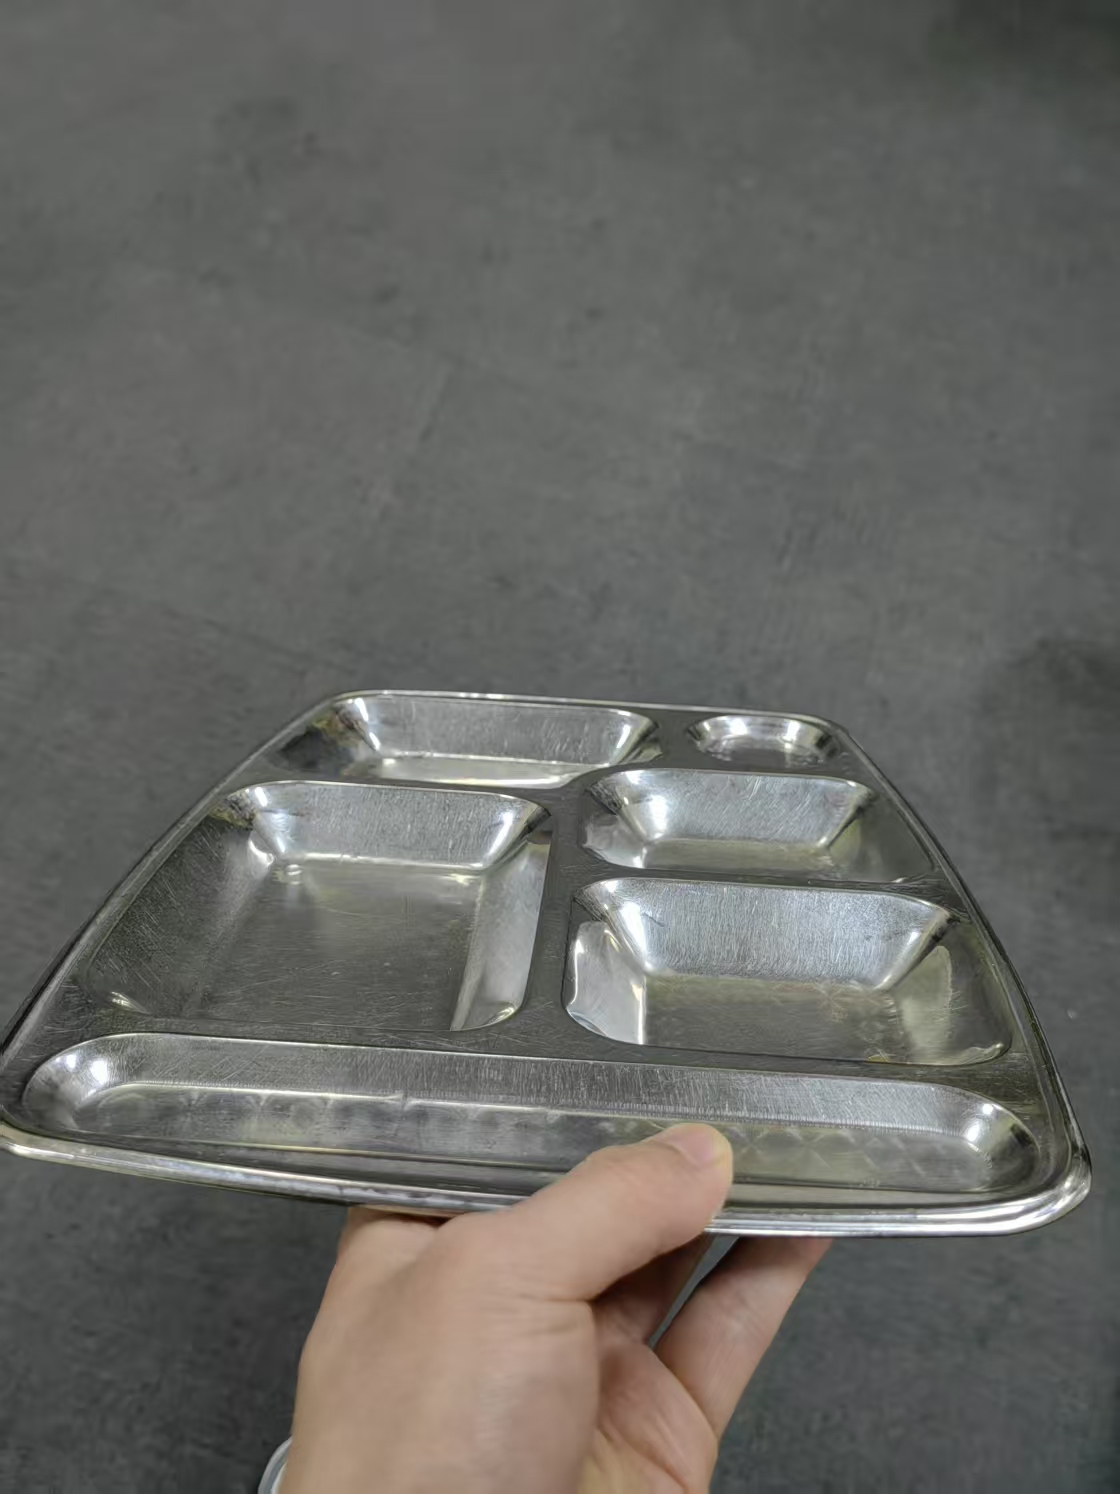plate: (6, 692, 1097, 1243)
